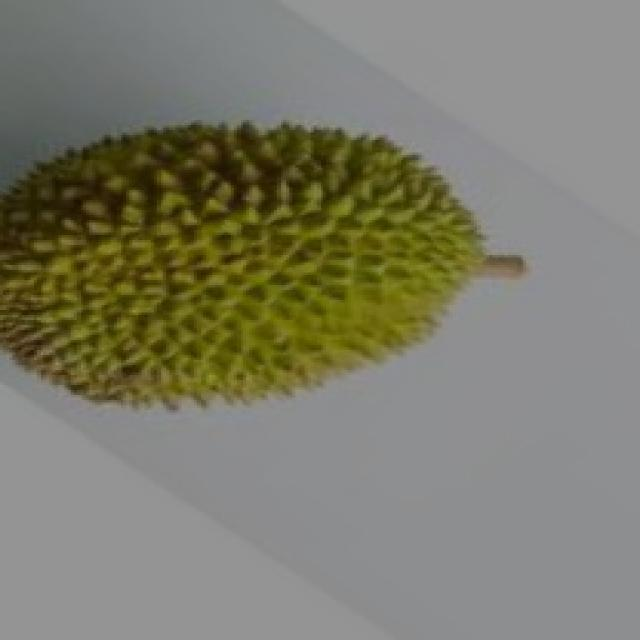fruit: (3, 75, 345, 470)
